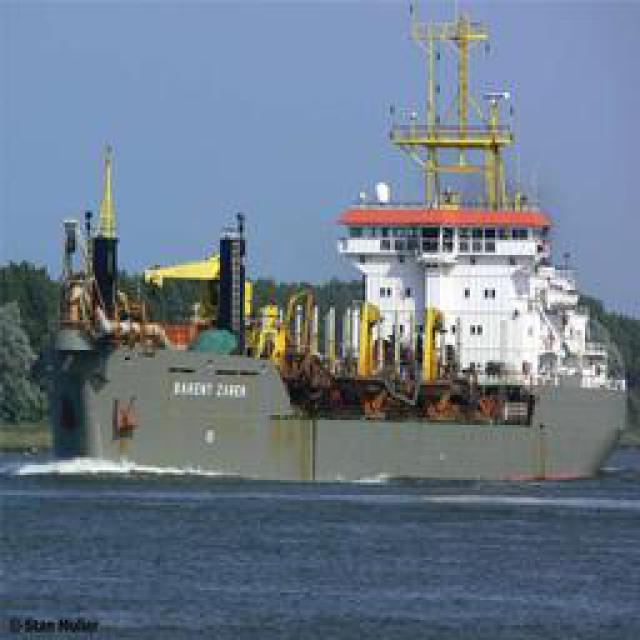Ship: (38, 3, 635, 497)
